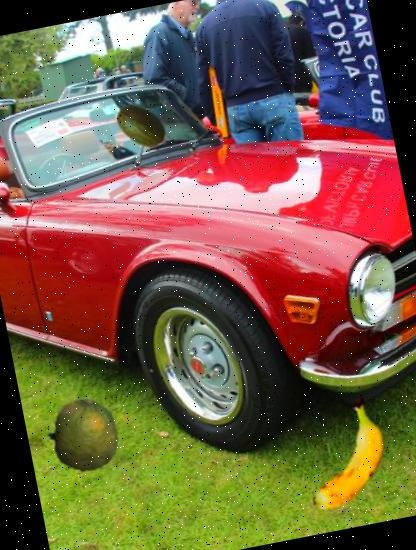Banana: (278, 389, 416, 527)
Limes: (40, 392, 127, 478)
Melon: (110, 93, 172, 156)
